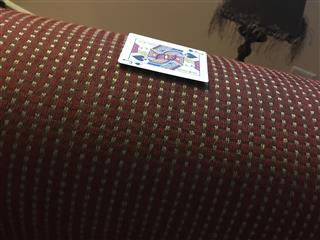JackOfSpades: (116, 31, 209, 83)
